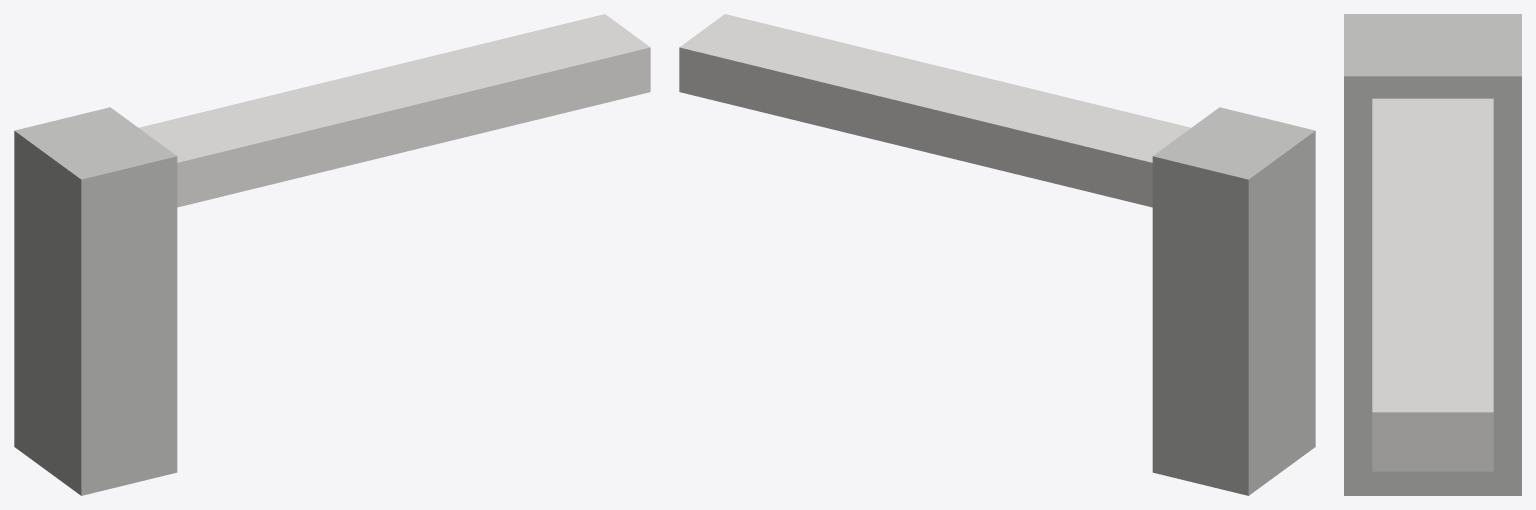
Rendered from SM_Fence_02_A.fbx.
3 renders of one model, left to right at view 1: azimuth 30°, elevation 25°; view 2: azimuth 150°, elevation 25°; view 3: azimuth 270°, elevation 25°, orthographic. The views are drawn at different scales.
Parts seen in each view (by area): view 1: polySurface60; view 2: polySurface60; view 3: polySurface60.
Part boxes in pixels (<box>): polySurface60: <box>14,14,650,495</box>; polySurface60: <box>679,14,1315,495</box>; polySurface60: <box>1344,14,1521,495</box>.
Size of the model in its own units: 109 by 56.68 by 21.77.
Materials: 1 (1 with a texture image).
